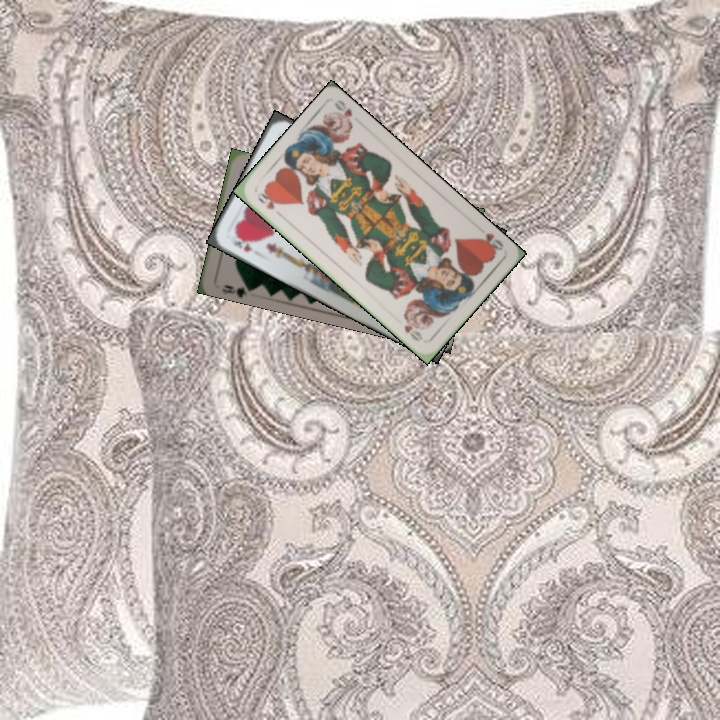G9: (218, 279, 255, 299)
HK: (227, 231, 256, 255)
HO: (474, 229, 506, 256), (254, 188, 280, 212)
